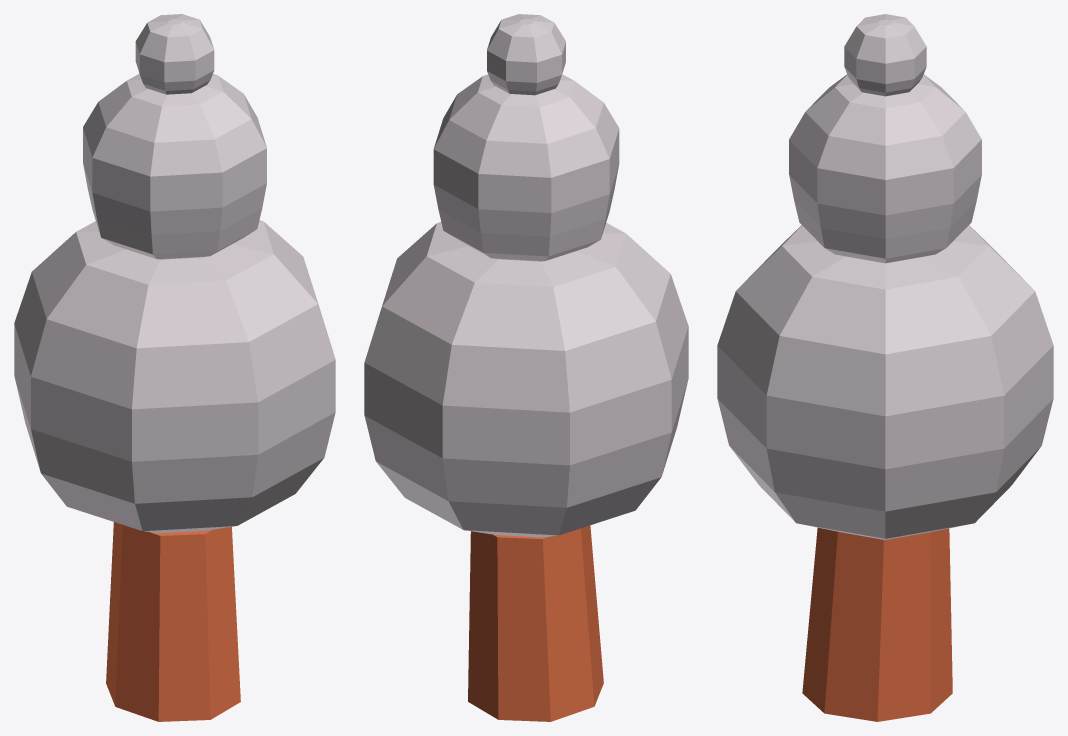
The picture shows the model from 3 angles, left to right: view 1: azimuth 30°, elevation 25°; view 2: azimuth 150°, elevation 25°; view 3: azimuth 270°, elevation 25°; orthographic projection.
Visible parts, largest first — view 1: Cylinder, Cylinder.001; view 2: Cylinder, Cylinder.001; view 3: Cylinder, Cylinder.001.
Part boxes in pixels (<box>): Cylinder: <box>14,14,335,533</box>; Cylinder.001: <box>106,522,240,721</box>; Cylinder: <box>364,14,688,537</box>; Cylinder.001: <box>468,525,603,721</box>; Cylinder: <box>717,14,1053,539</box>; Cylinder.001: <box>802,527,952,721</box>.
Bounding box in the file's own units: 455 × 1006 × 455.
